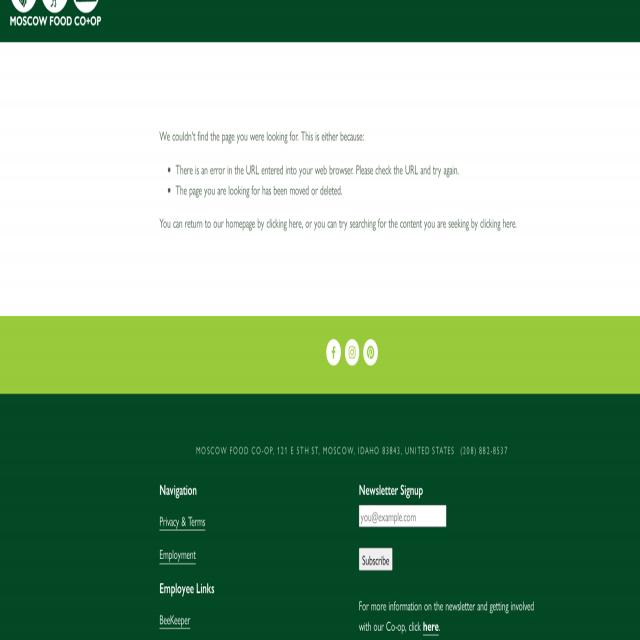button: (8, 0, 103, 31), (359, 548, 393, 571), (326, 339, 341, 365), (363, 339, 378, 365), (345, 339, 359, 365)
field: (359, 504, 447, 528)
